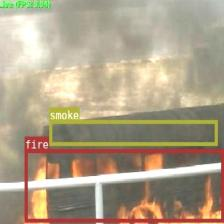fire: (24, 149, 223, 221)
smoke: (49, 120, 217, 144)
